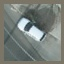car: (16, 16, 45, 42)
